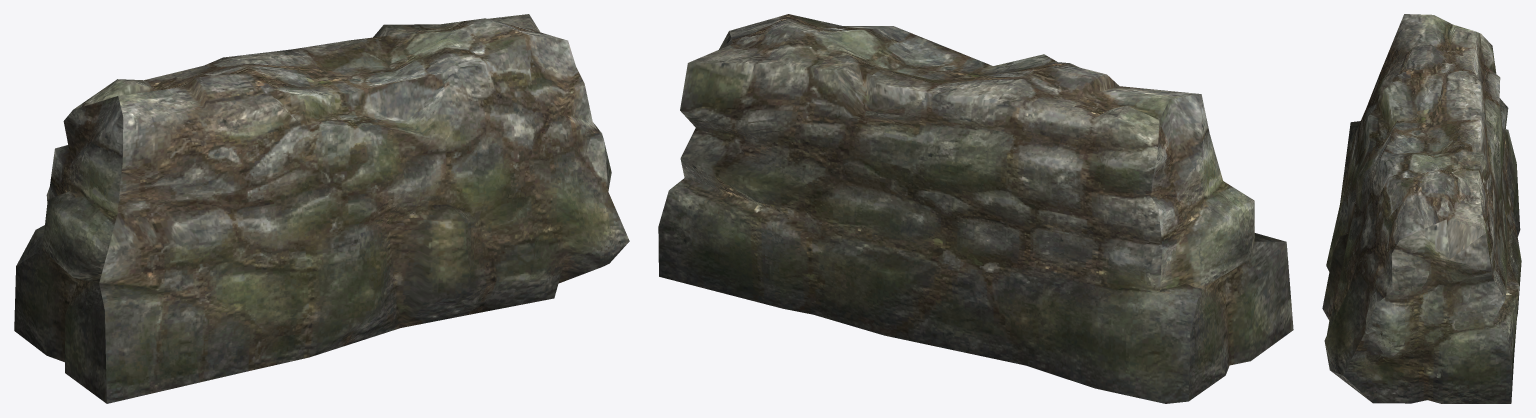
Rendered from shrine_rock_07.fbx.
3 renders of one model, left to right at view 1: azimuth 30°, elevation 25°; view 2: azimuth 150°, elevation 25°; view 3: azimuth 270°, elevation 25°, orthographic. The views are drawn at different scales.
Parts seen in each view (by area): view 1: Shrine_rock_07; view 2: Shrine_rock_07; view 3: Shrine_rock_07.
Boxes of the visible parts, x1,y1,x2,y2 form: Shrine_rock_07: (14, 14, 629, 403); Shrine_rock_07: (658, 14, 1293, 403); Shrine_rock_07: (1322, 14, 1521, 403).
Bounding box in the file's own units: 8.24 × 3.71 × 3.23.
